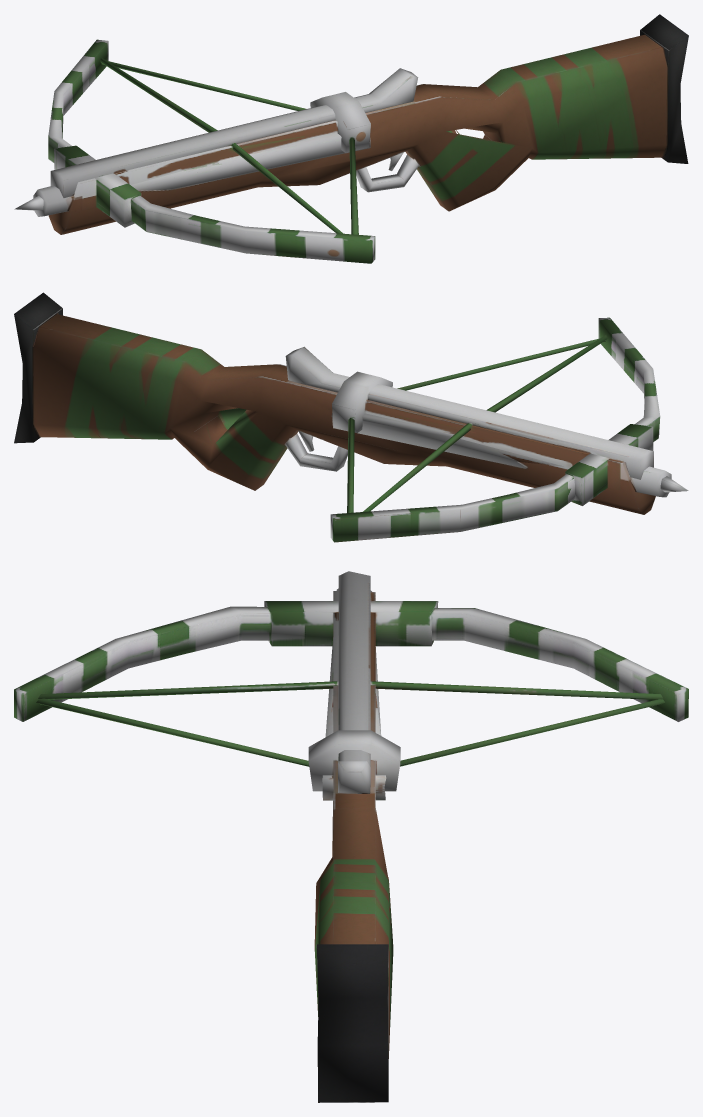
The model's file is ranger_crossbow.glb.
3 renders of one model, top to bottom at view 1: azimuth 30°, elevation 25°; view 2: azimuth 150°, elevation 25°; view 3: azimuth 270°, elevation 25°, orthographic. The views are drawn at different scales.
Bounding box in the file's own units: 0.9575 × 0.2041 × 0.6914.
Materials: 1 (1 with a texture image).
